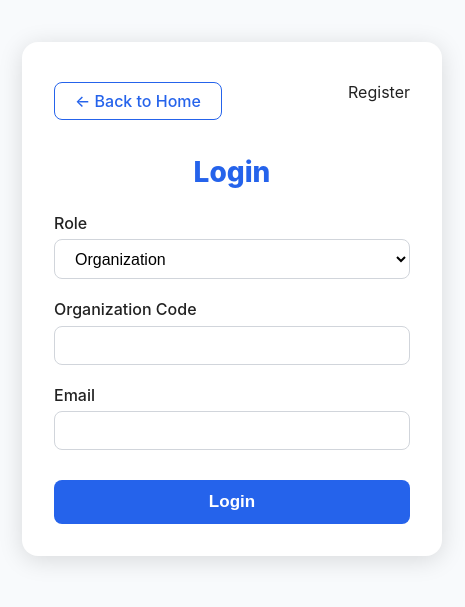
Test case: Login Component › validates required fields
Note: Set role to teacher to trigger password validation
Select "Teacher" in the dropdown labelled "Role" at (232, 259), box [54,239,410,279]
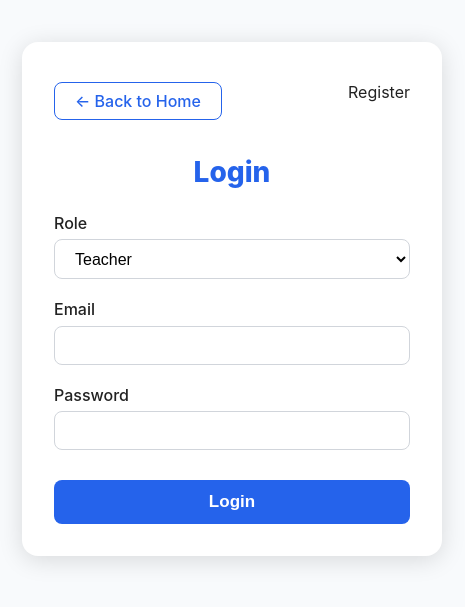
Click the button "Login" at (232, 502), box [54,480,410,524]
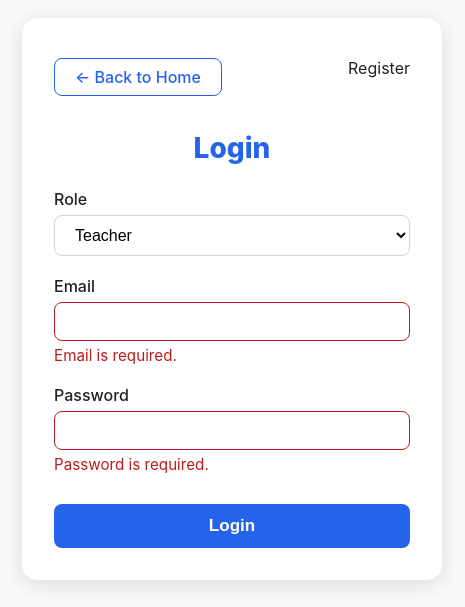
Now the text "Email is required." is shown, box [54,346,177,365]
